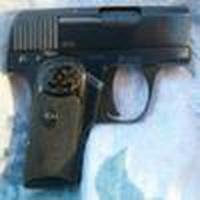gun: (8, 9, 197, 182)
